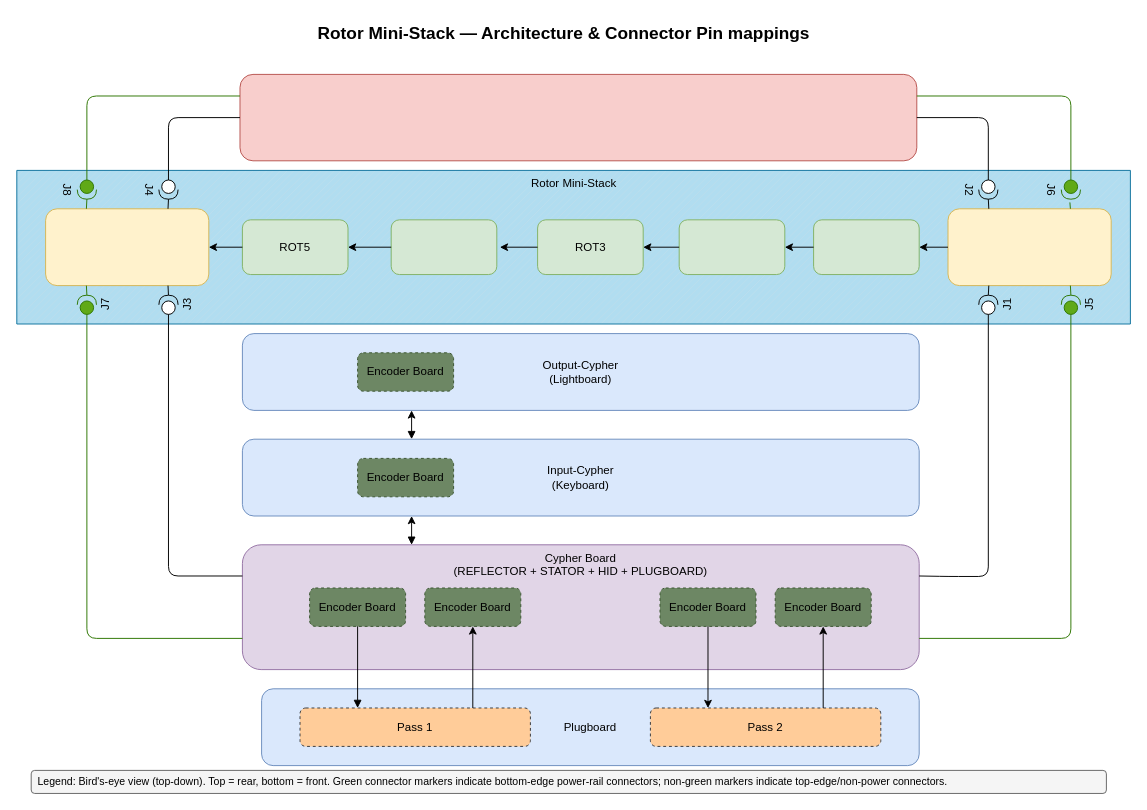
Some shapes in this 1147 by 810 pixel diagram are drawn without their labels. Each missing label, with the centre of its shape:
"ROT1" belongs at (x=866, y=247).
"ROT2" belongs at (x=731, y=247).
"ROT4" belongs at (x=443, y=247).
"Stack-Blanking (Terminator)" belongs at (x=578, y=117).
"Stack-Input" belongs at (x=1029, y=247).
"Stack-Output" belongs at (x=127, y=247).
